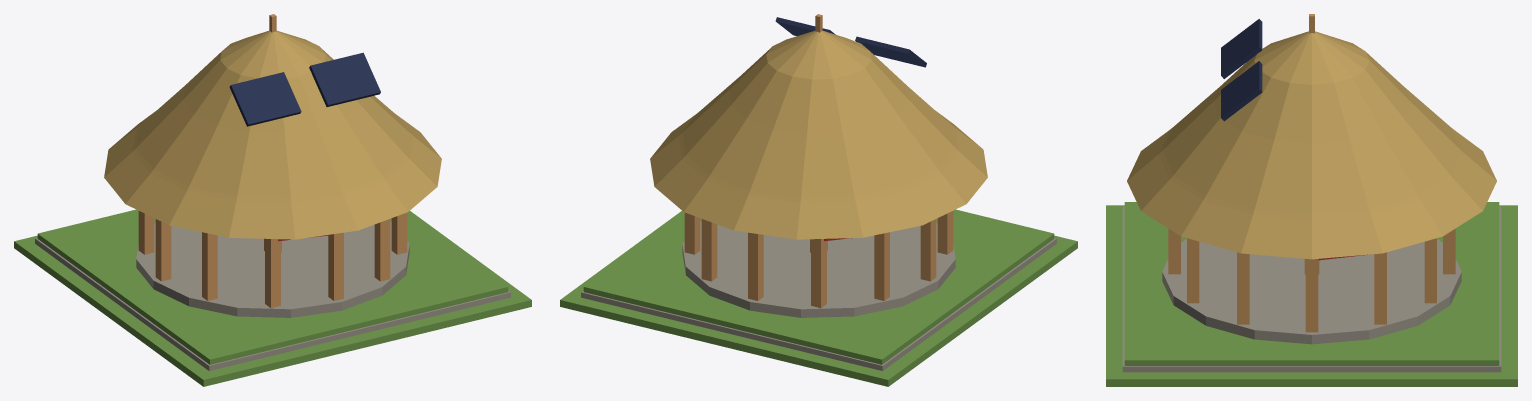
The model's file is house-1x1-1f-fale-a-solar.glb.
The picture shows the model from 3 angles, left to right: view 1: azimuth 30°, elevation 25°; view 2: azimuth 150°, elevation 25°; view 3: azimuth 270°, elevation 25°; orthographic projection. The views are drawn at different scales.
Visible parts, largest first — view 1: house-1x1-1f-fale-a-solar; view 2: house-1x1-1f-fale-a-solar; view 3: house-1x1-1f-fale-a-solar.
Part boxes in pixels (box(x1,y1,x2,y2)): house-1x1-1f-fale-a-solar: box(14, 14, 531, 386); house-1x1-1f-fale-a-solar: box(560, 14, 1077, 386); house-1x1-1f-fale-a-solar: box(1106, 14, 1517, 386).
Bounding box in the file's own units: 0.99 × 0.755 × 0.99.
Materials: 1 (1 with a texture image).
